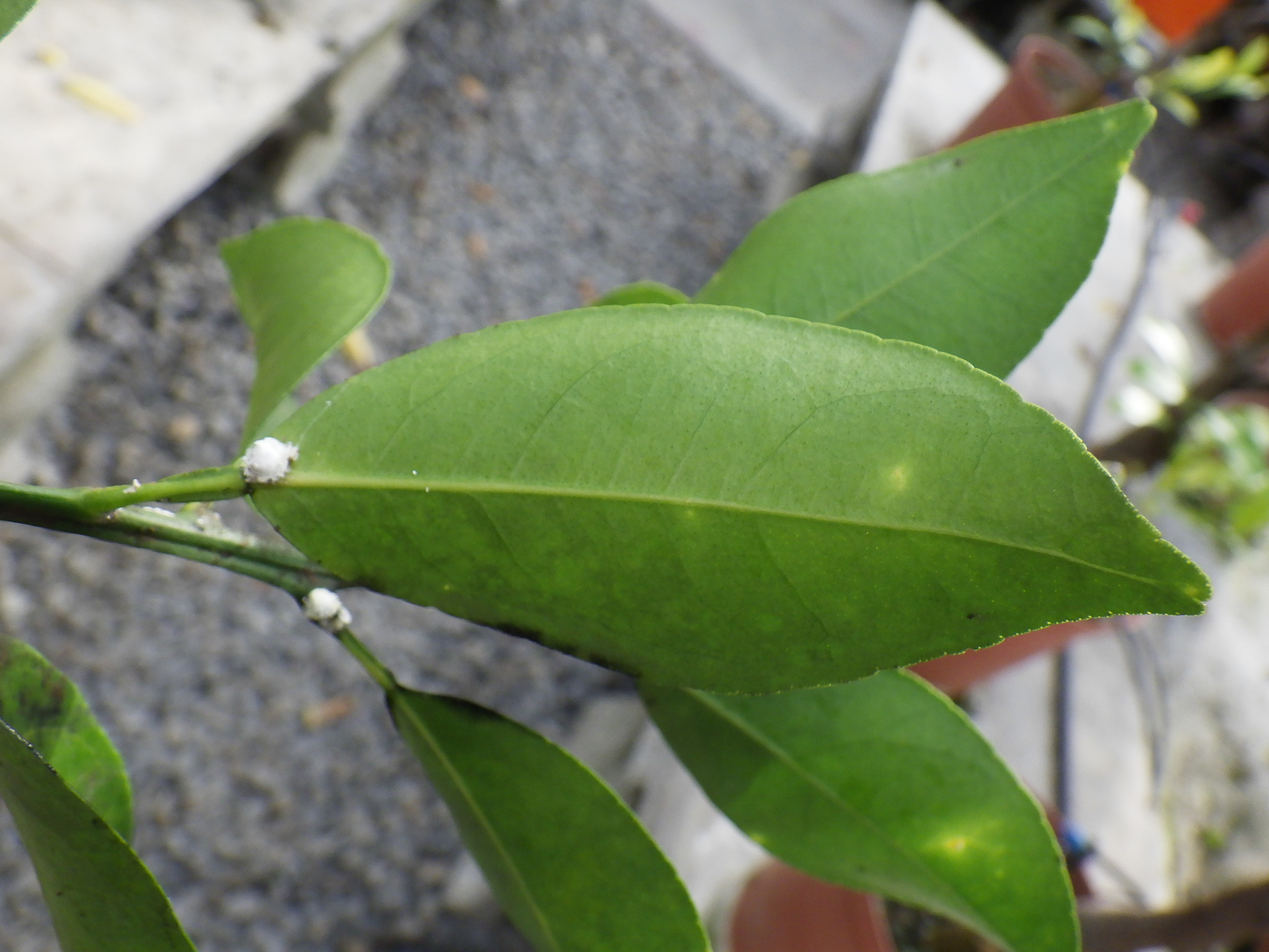Scale_Insect: (242, 437, 299, 485)
